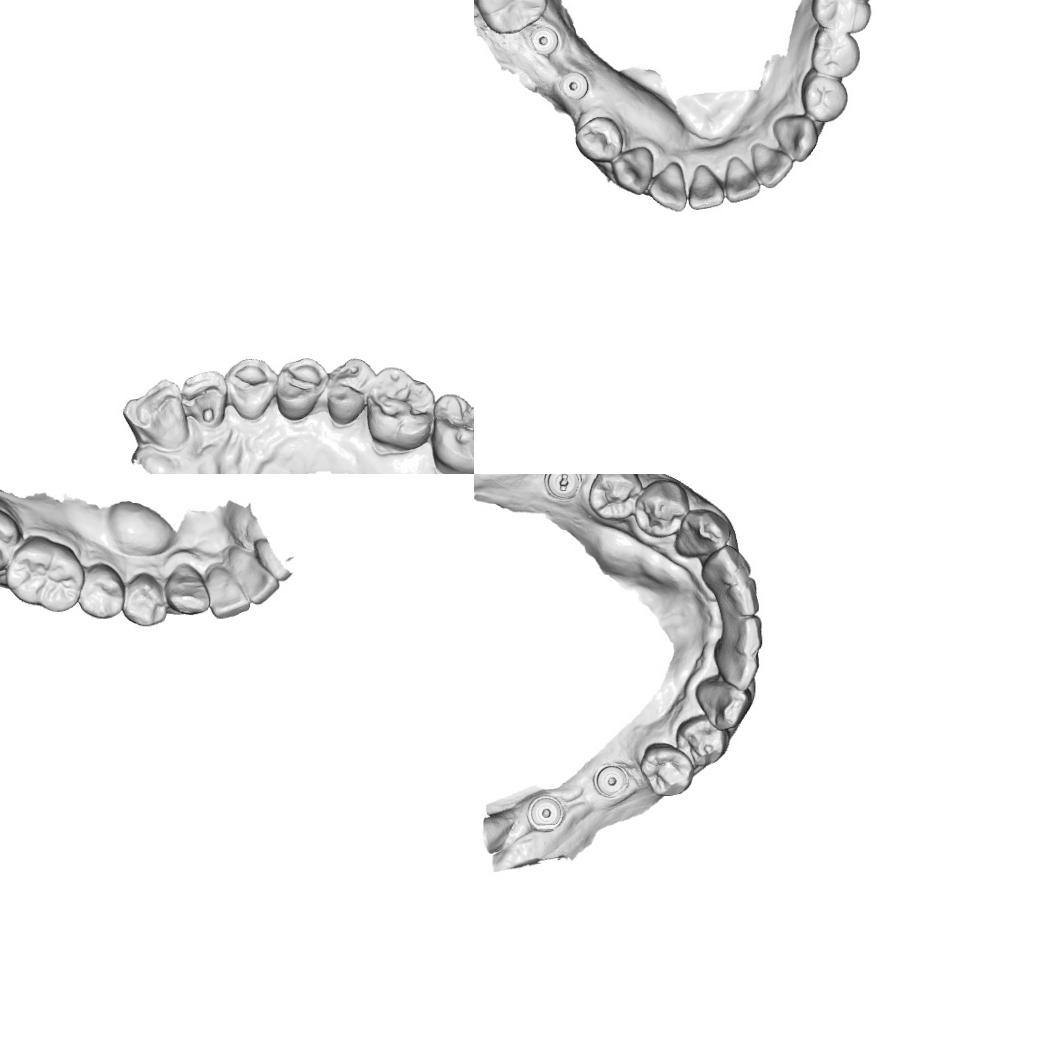canine: (224, 356, 280, 422), (691, 675, 752, 734), (673, 506, 731, 560), (164, 561, 212, 617), (771, 113, 819, 163), (610, 146, 654, 196)
implant: (524, 789, 569, 835), (588, 761, 632, 803), (557, 68, 590, 100), (528, 26, 561, 56)
implant_minus: (541, 474, 583, 504)
incisor: (121, 376, 190, 450), (226, 550, 282, 608), (179, 368, 229, 430), (710, 639, 764, 691), (700, 542, 754, 593), (206, 562, 252, 621), (711, 576, 765, 622), (714, 613, 766, 658), (647, 160, 688, 212), (748, 142, 794, 188), (686, 164, 726, 210), (724, 155, 762, 203)
molar: (3, 532, 88, 614), (365, 365, 436, 452), (430, 392, 474, 474), (474, 0, 547, 35), (810, 0, 874, 34), (0, 499, 25, 576)
premolar: (274, 356, 330, 422), (324, 355, 376, 426), (634, 475, 688, 543), (638, 736, 695, 800), (668, 712, 728, 772), (73, 560, 129, 620), (120, 570, 171, 630), (587, 474, 643, 523), (800, 67, 848, 123), (810, 28, 860, 78), (574, 114, 624, 164)
